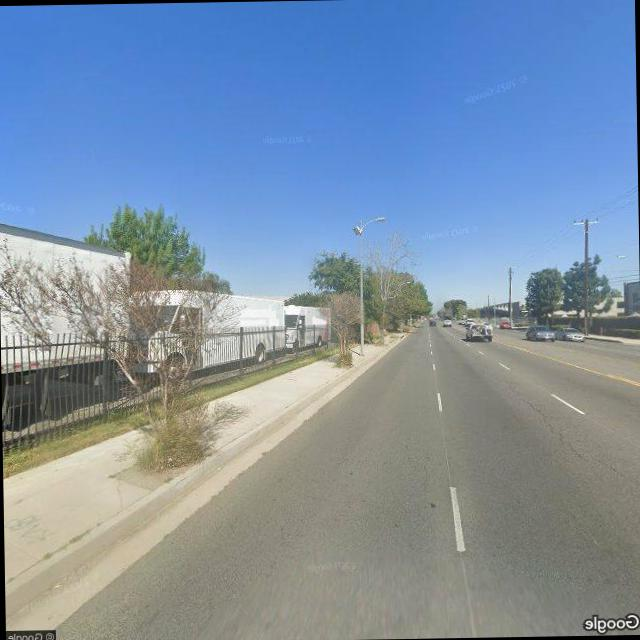pothole: (510, 373, 603, 468)
